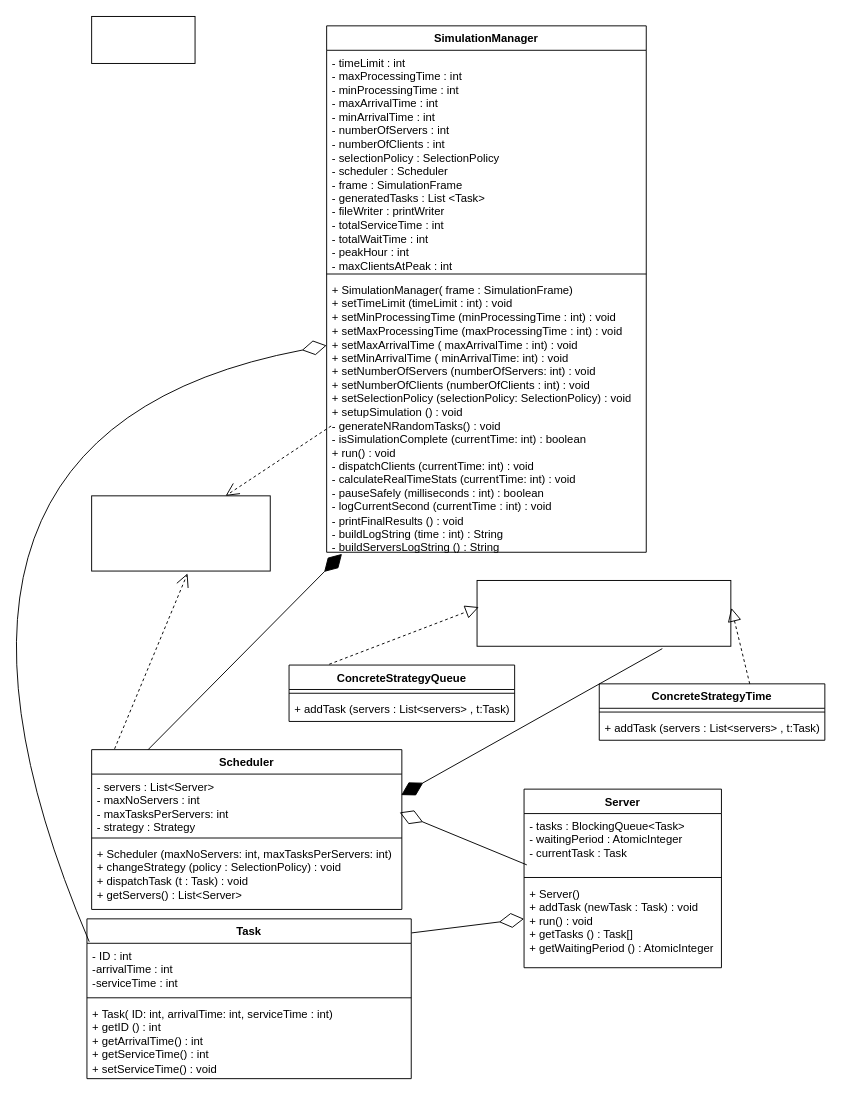
Some shapes in this 842 by 1098 pixel diagram are drawn without their labels. The box of each missing label's shape, as (x1, y1, x2, y2) in pixels:
<<Enumeration>> SelectionPolicy SHORTEST_QUEUE SHORTEST_TIME: (91, 495, 270, 571)
<<Interface>> Strategy + addTask (servers : List<servers>, t : Task) :void: (476, 580, 731, 646)
Class Diagram: (91, 16, 195, 63)
